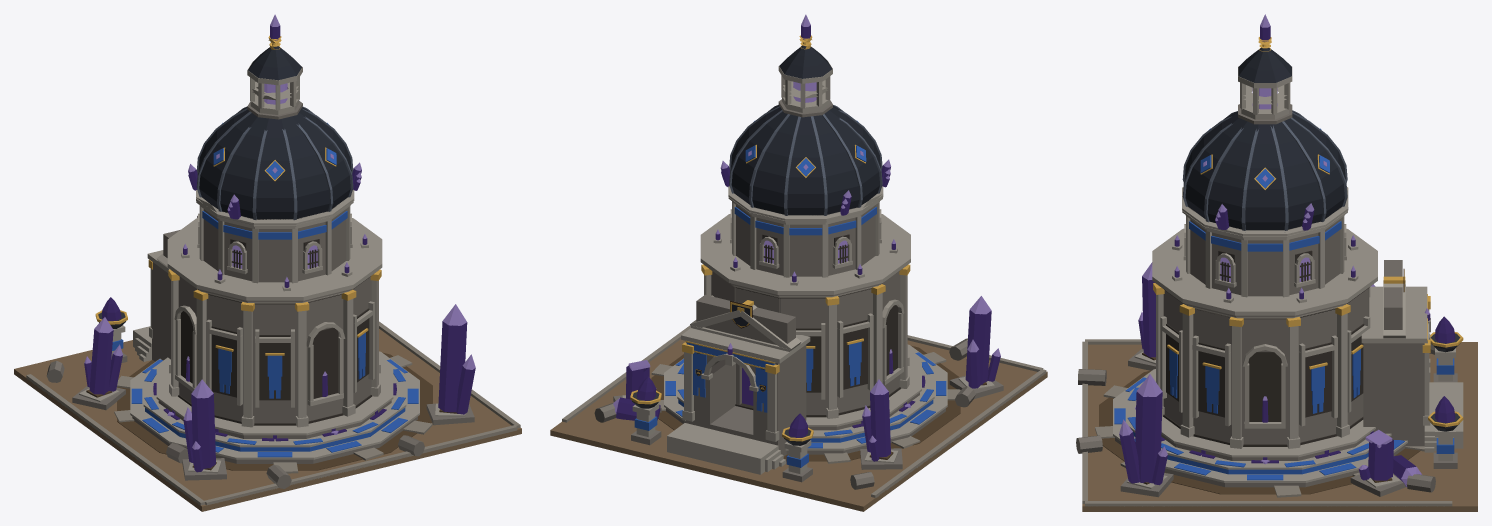
The model's file is 神秘圣地_手游_中.glb.
3 renders of one model, left to right at view 1: azimuth 30°, elevation 25°; view 2: azimuth 150°, elevation 25°; view 3: azimuth 270°, elevation 25°, orthographic. The views are drawn at different scales.
Visible parts, largest first — view 1: MS-主体, MS-自发光, MS-team; view 2: MS-主体, MS-自发光, MS-team; view 3: MS-主体, MS-自发光, MS-team.
Part boxes in pixels (x1,y1,x2,y2): MS-主体: (14,35,521,511); MS-自发光: (84,14,475,472); MS-team: (112,123,418,457); MS-主体: (550,35,1047,511); MS-自发光: (613,14,1000,461); MS-team: (634,121,946,467); MS-主体: (1076,37,1477,511); MS-自发光: (1119,14,1455,486); MS-team: (1114,128,1454,480).
Size of the model in its own units: 13.7 by 16.18 by 14.17.
Materials: 4 (2 with a texture image).
